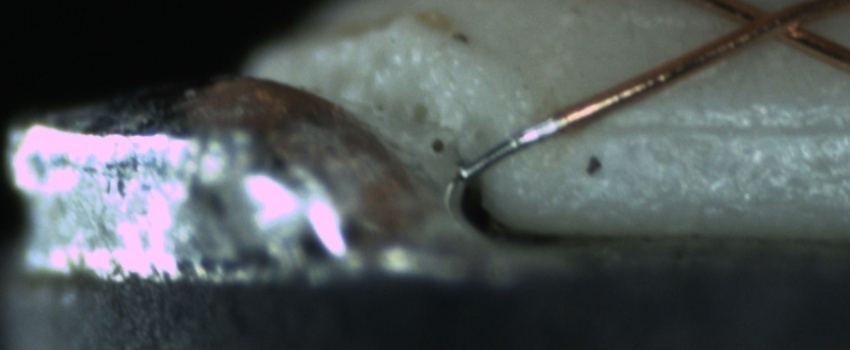CL: (713, 2, 827, 47)
DL: (581, 94, 842, 162)
TS: (458, 114, 564, 183)
